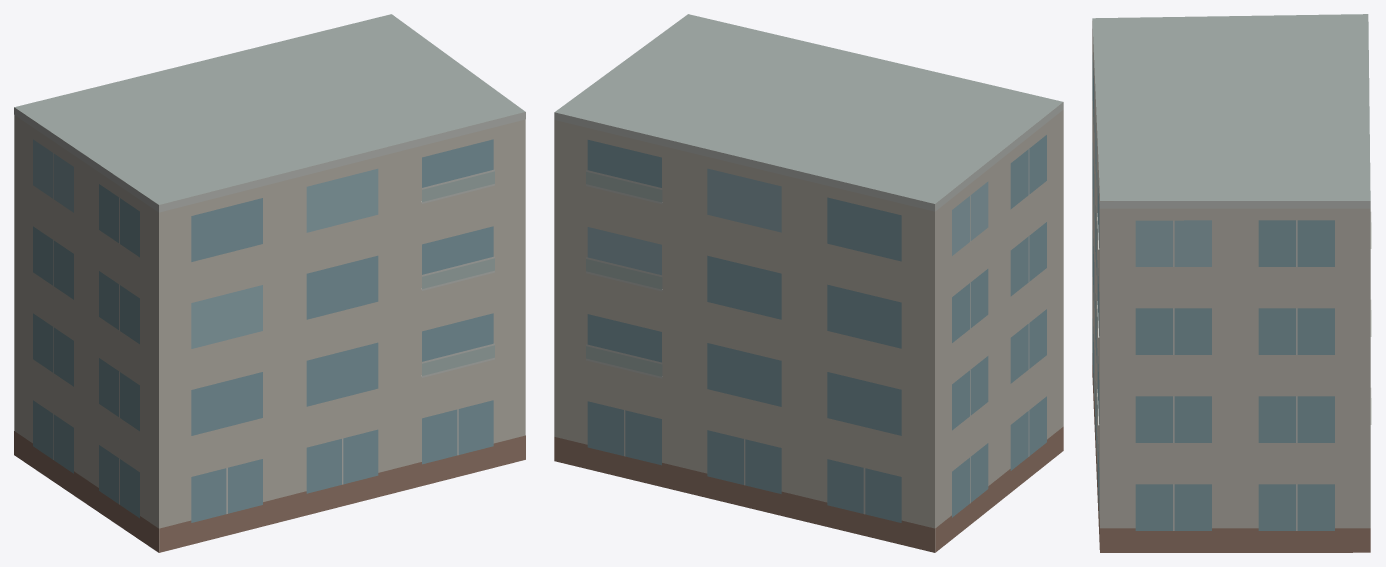
File: survey-upis-32493969.glb
3 views of the same model, side by side, from view 1: azimuth 30°, elevation 25°; view 2: azimuth 150°, elevation 25°; view 3: azimuth 270°, elevation 25° (orthographic).
Visible parts, largest first — view 1: survey-upis-32493969.tmp; view 2: survey-upis-32493969.tmp; view 3: survey-upis-32493969.tmp.
Boxes of the visible parts, <box> form: survey-upis-32493969.tmp: <box>14,14,525,552</box>; survey-upis-32493969.tmp: <box>554,14,1063,552</box>; survey-upis-32493969.tmp: <box>1092,14,1371,552</box>.
Bounding box in the file's own units: 12.78 × 11.2 × 8.07.
